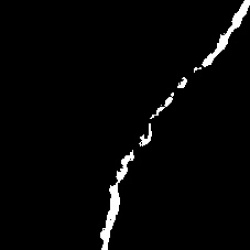crack: (194, 2, 248, 71), (100, 152, 133, 248), (150, 93, 176, 121), (140, 123, 153, 146), (177, 76, 187, 88)
